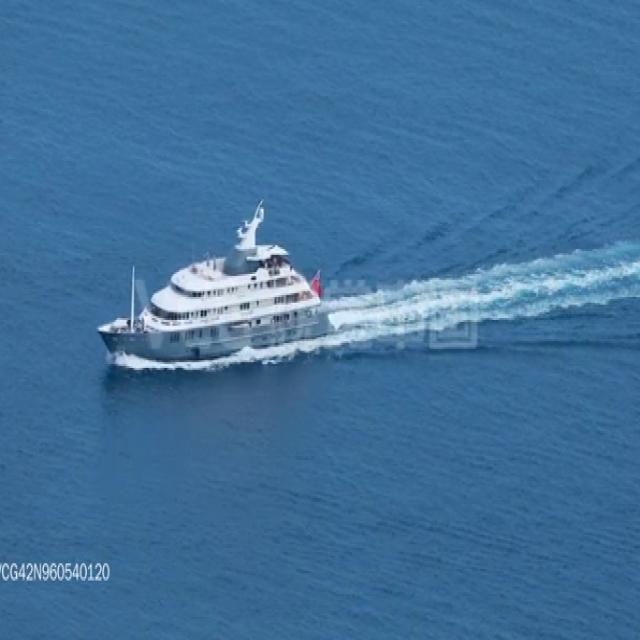passenger ship: (98, 202, 334, 356)
